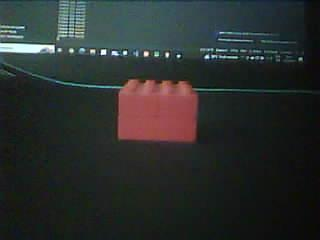lego: (117, 78, 199, 141)
